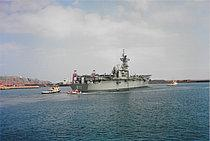MIL_Ship: (71, 47, 150, 92)
